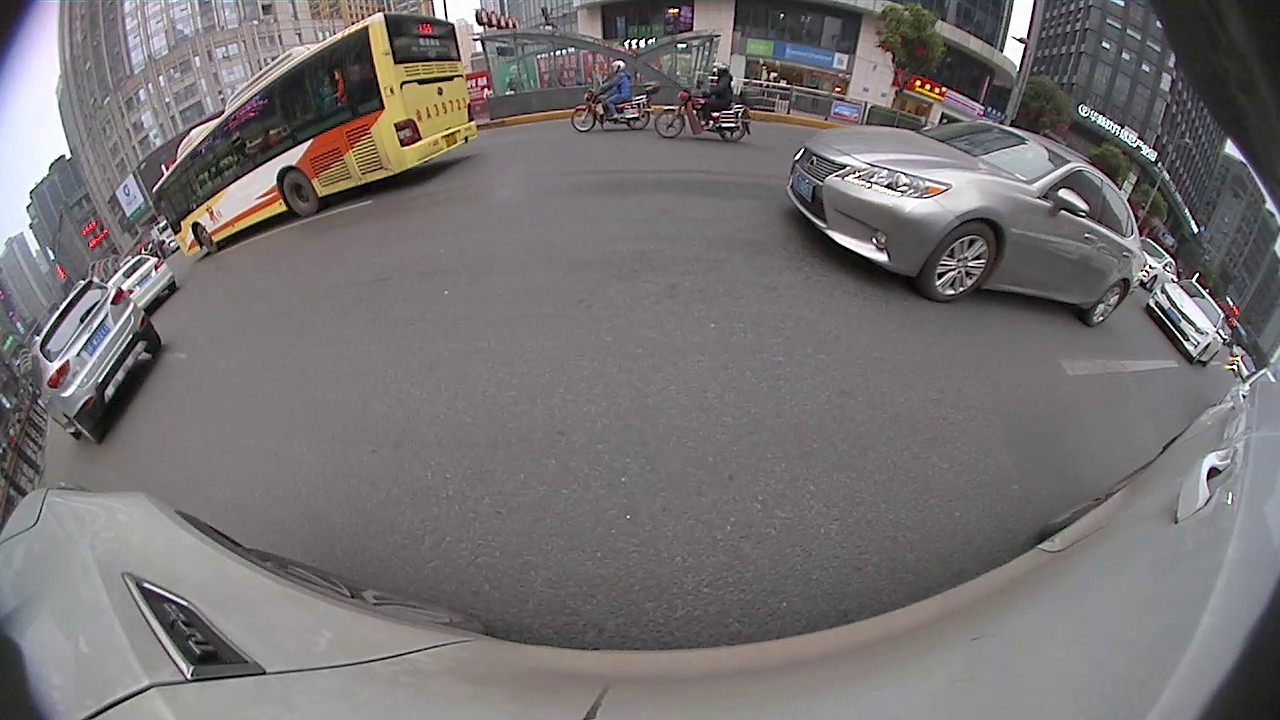bus: (148, 17, 482, 262)
car: (781, 120, 1148, 331), (26, 271, 159, 443), (1141, 280, 1234, 364), (101, 249, 181, 317)
front: (919, 218, 1000, 304), (653, 108, 688, 140), (193, 222, 220, 255), (571, 105, 599, 132)
rear: (1080, 278, 1127, 329), (280, 168, 321, 220), (717, 122, 749, 144), (626, 109, 653, 132)
rider: (656, 61, 763, 142), (572, 57, 664, 134)
